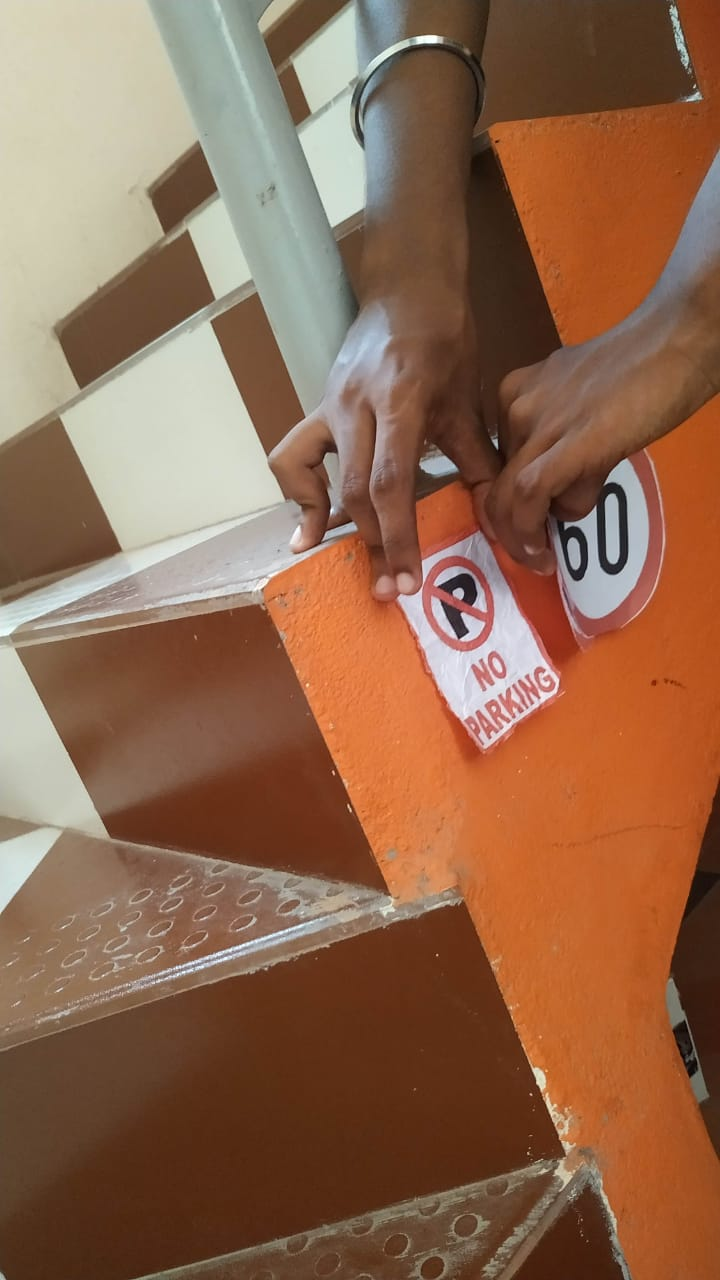NO PARKING: (381, 529, 571, 761), (524, 433, 681, 645)
